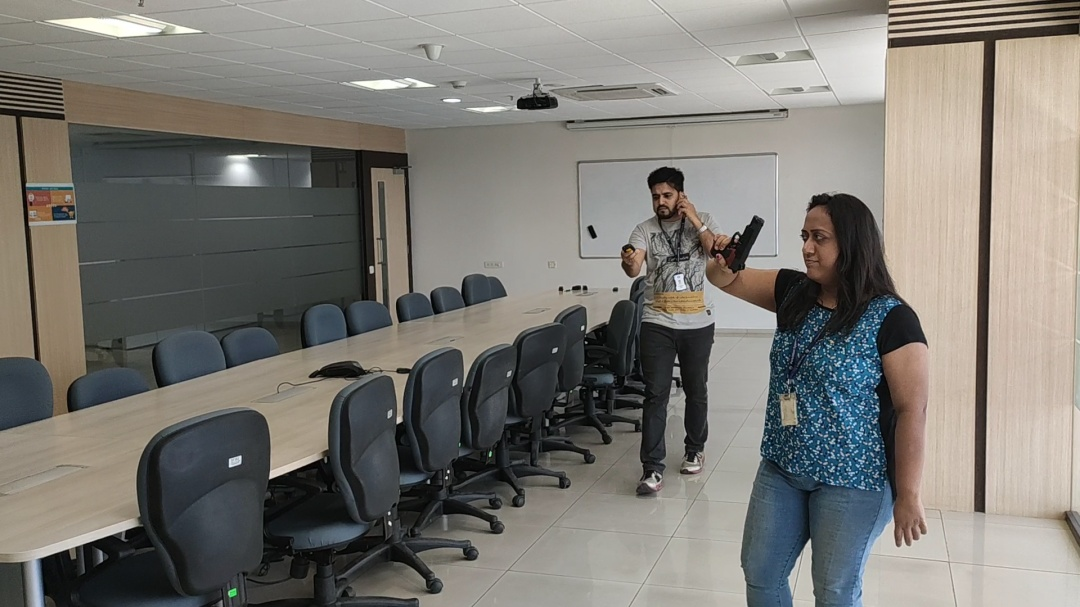gun: (710, 214, 765, 275)
